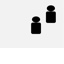human: (44, 4, 57, 24), (30, 15, 41, 34)
